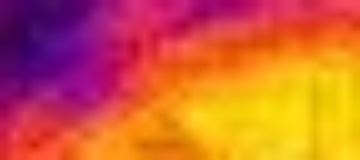Shadow: (1, 1, 122, 112)
